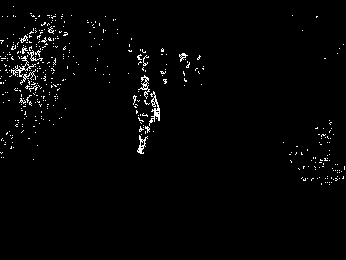person: (133, 73, 163, 155)
